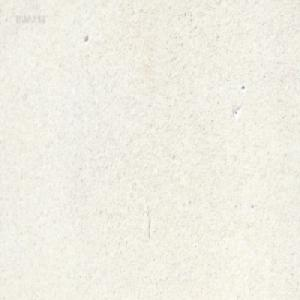Wrench: (154, 0, 161, 4)
